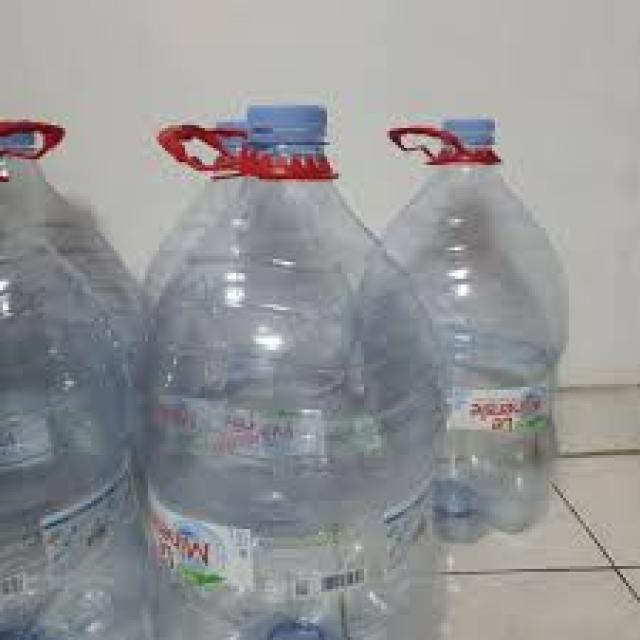Galon: (136, 100, 444, 637), (376, 65, 575, 543)
